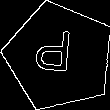P_S: (38, 30, 80, 83)
